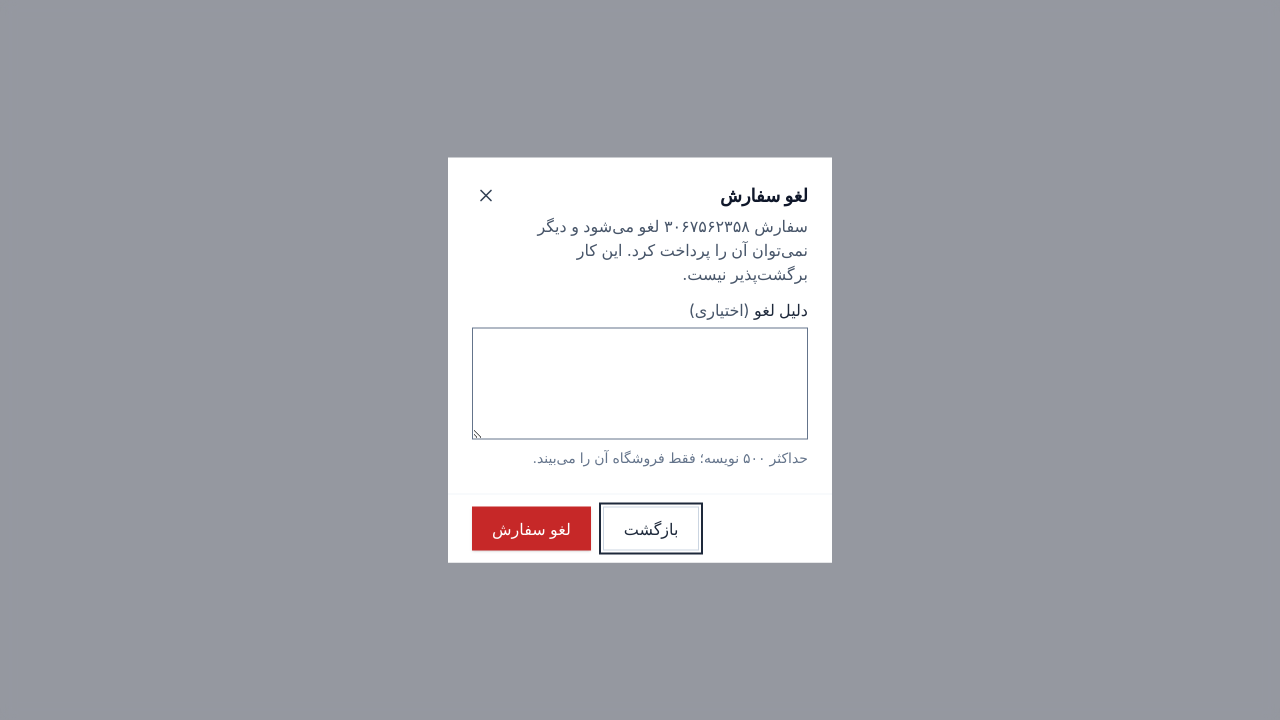
Test: refused › 409 order_already_cancelled: said, the order read again, only «بازگشت» left
This screenshot has width=1280, height=720.
Click the button "لغو سفارش".
click(531, 528)  # box 472,506 -> 591,550
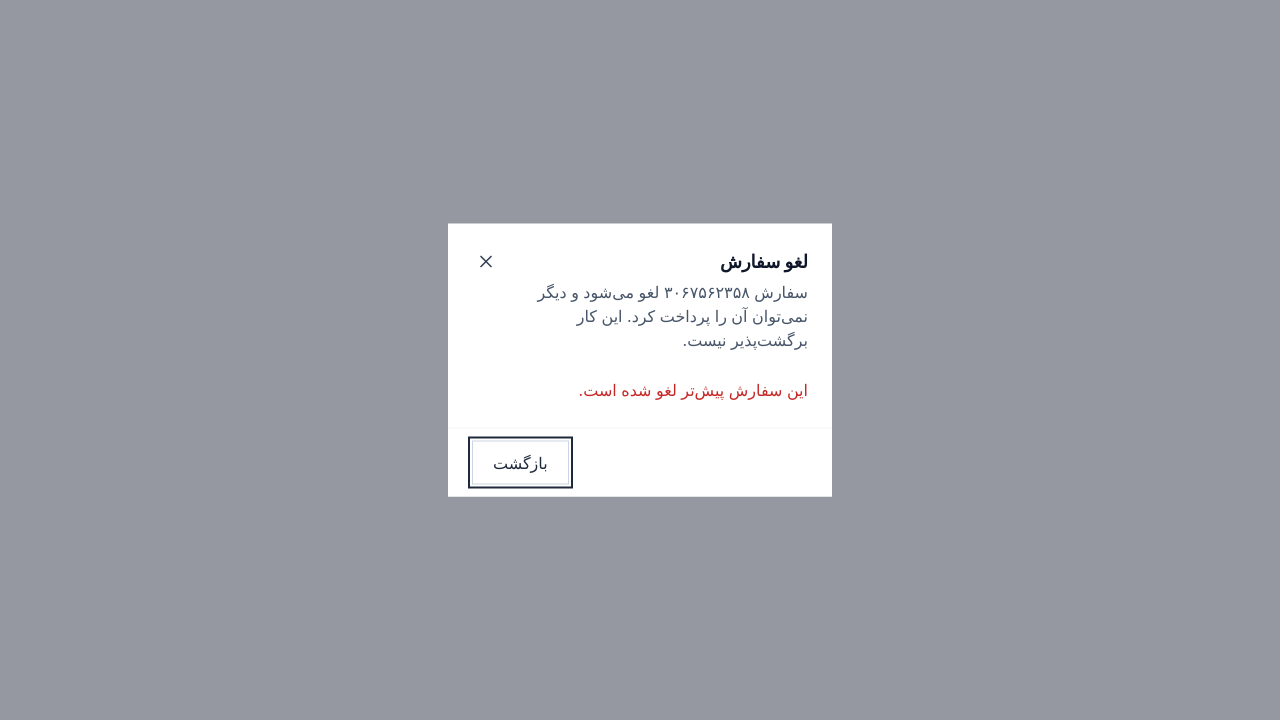
Now the message reads "این سفارش پیش‌تر لغو شده است.", box 579,380 -> 808,400
